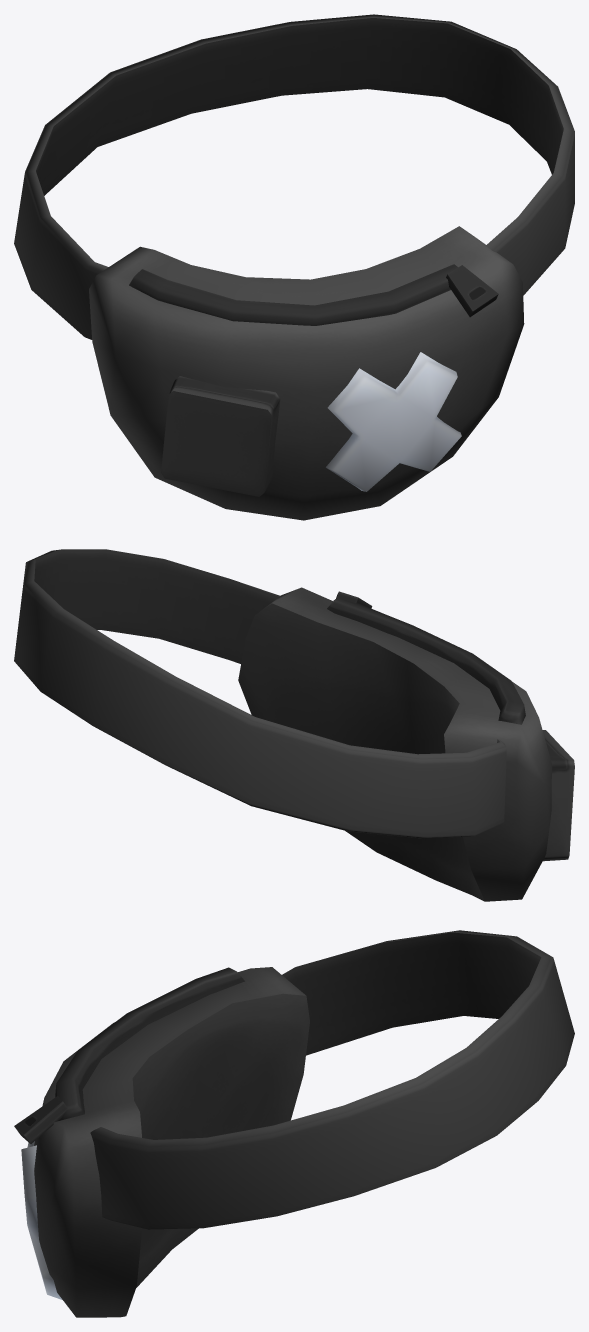
Rendered from SM_pocketBg11.fbx.
The picture shows the model from 3 angles, top to bottom: view 1: azimuth 30°, elevation 25°; view 2: azimuth 150°, elevation 25°; view 3: azimuth 270°, elevation 25°; orthographic projection. The views are drawn at different scales.
Visible parts, largest first — view 1: pocketBg11; view 2: pocketBg11; view 3: pocketBg11.
Boxes of the visible parts, x1,y1,x2,y2 form: pocketBg11: (14,14,574,520); pocketBg11: (14,549,574,901); pocketBg11: (14,930,574,1317).
Size of the model in its own units: 35.44 by 23.24 by 32.52.
